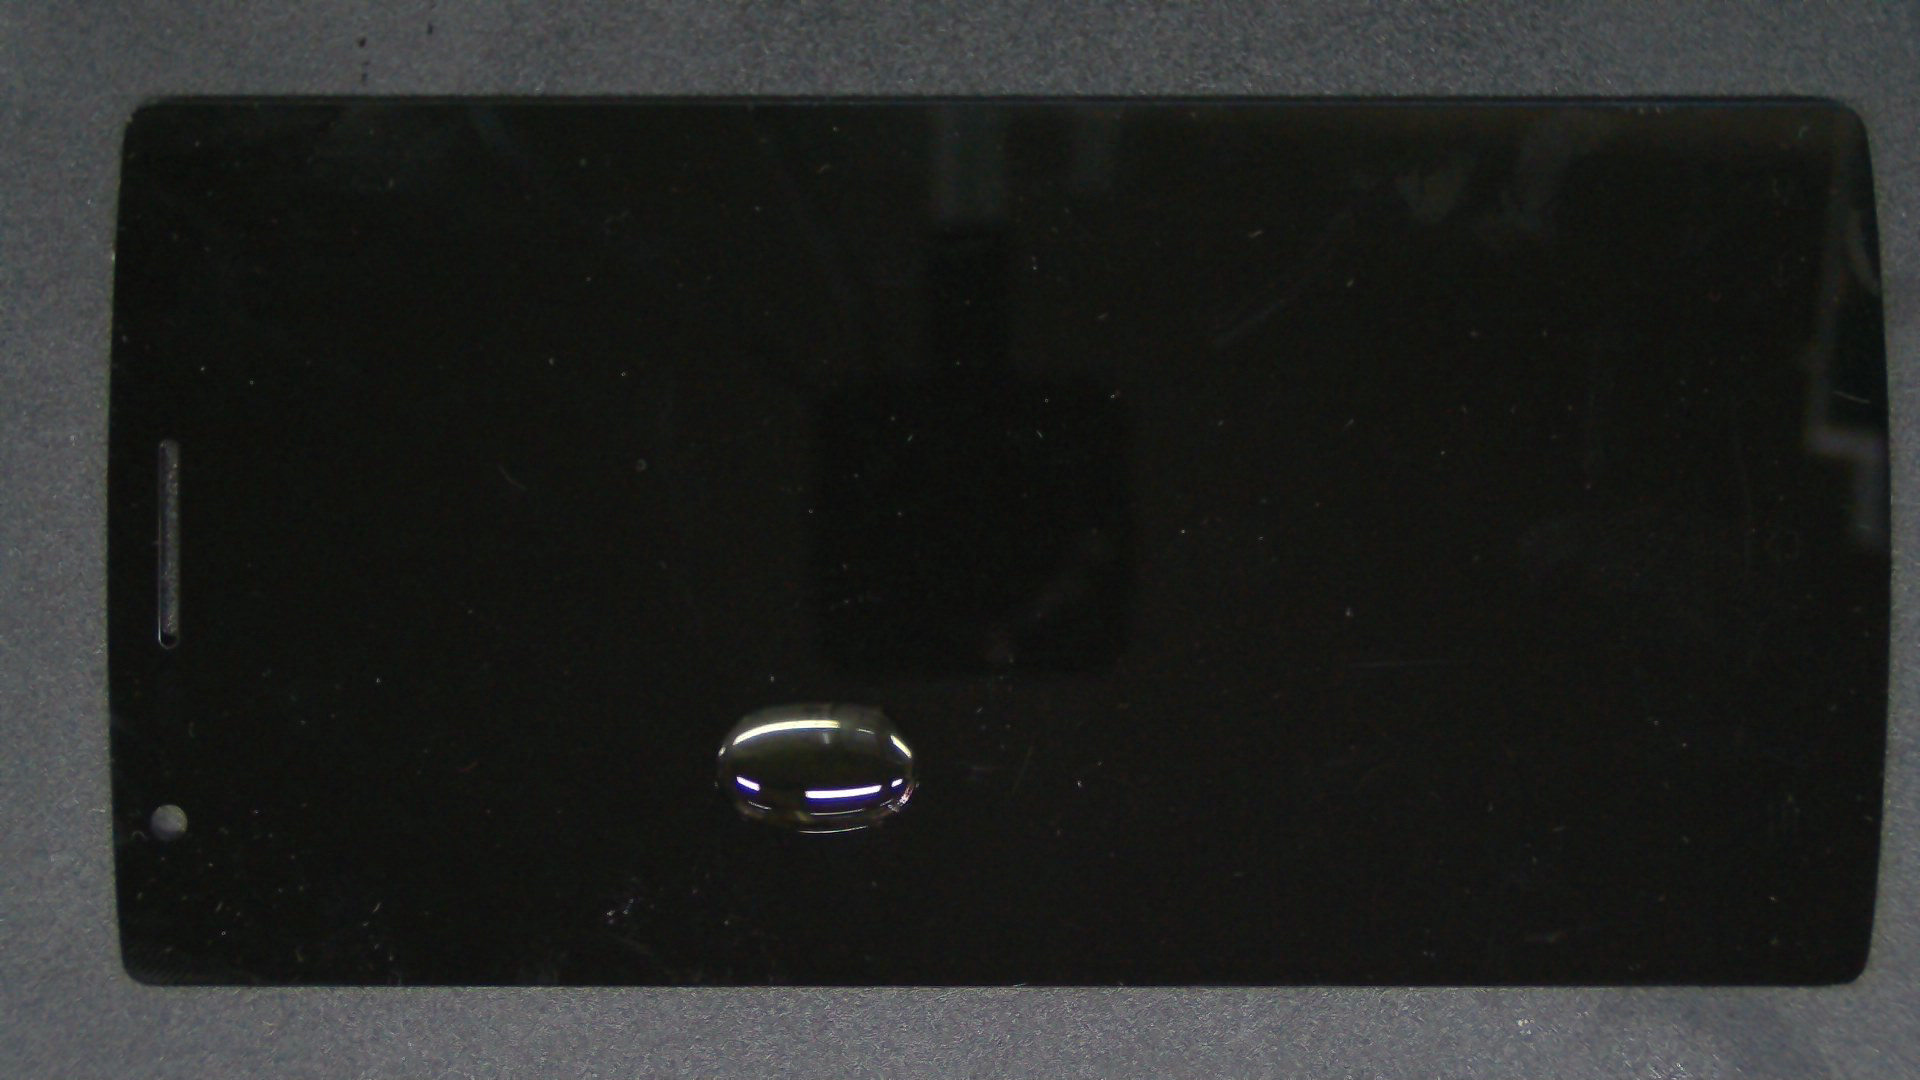defect: (713, 702, 920, 833)
